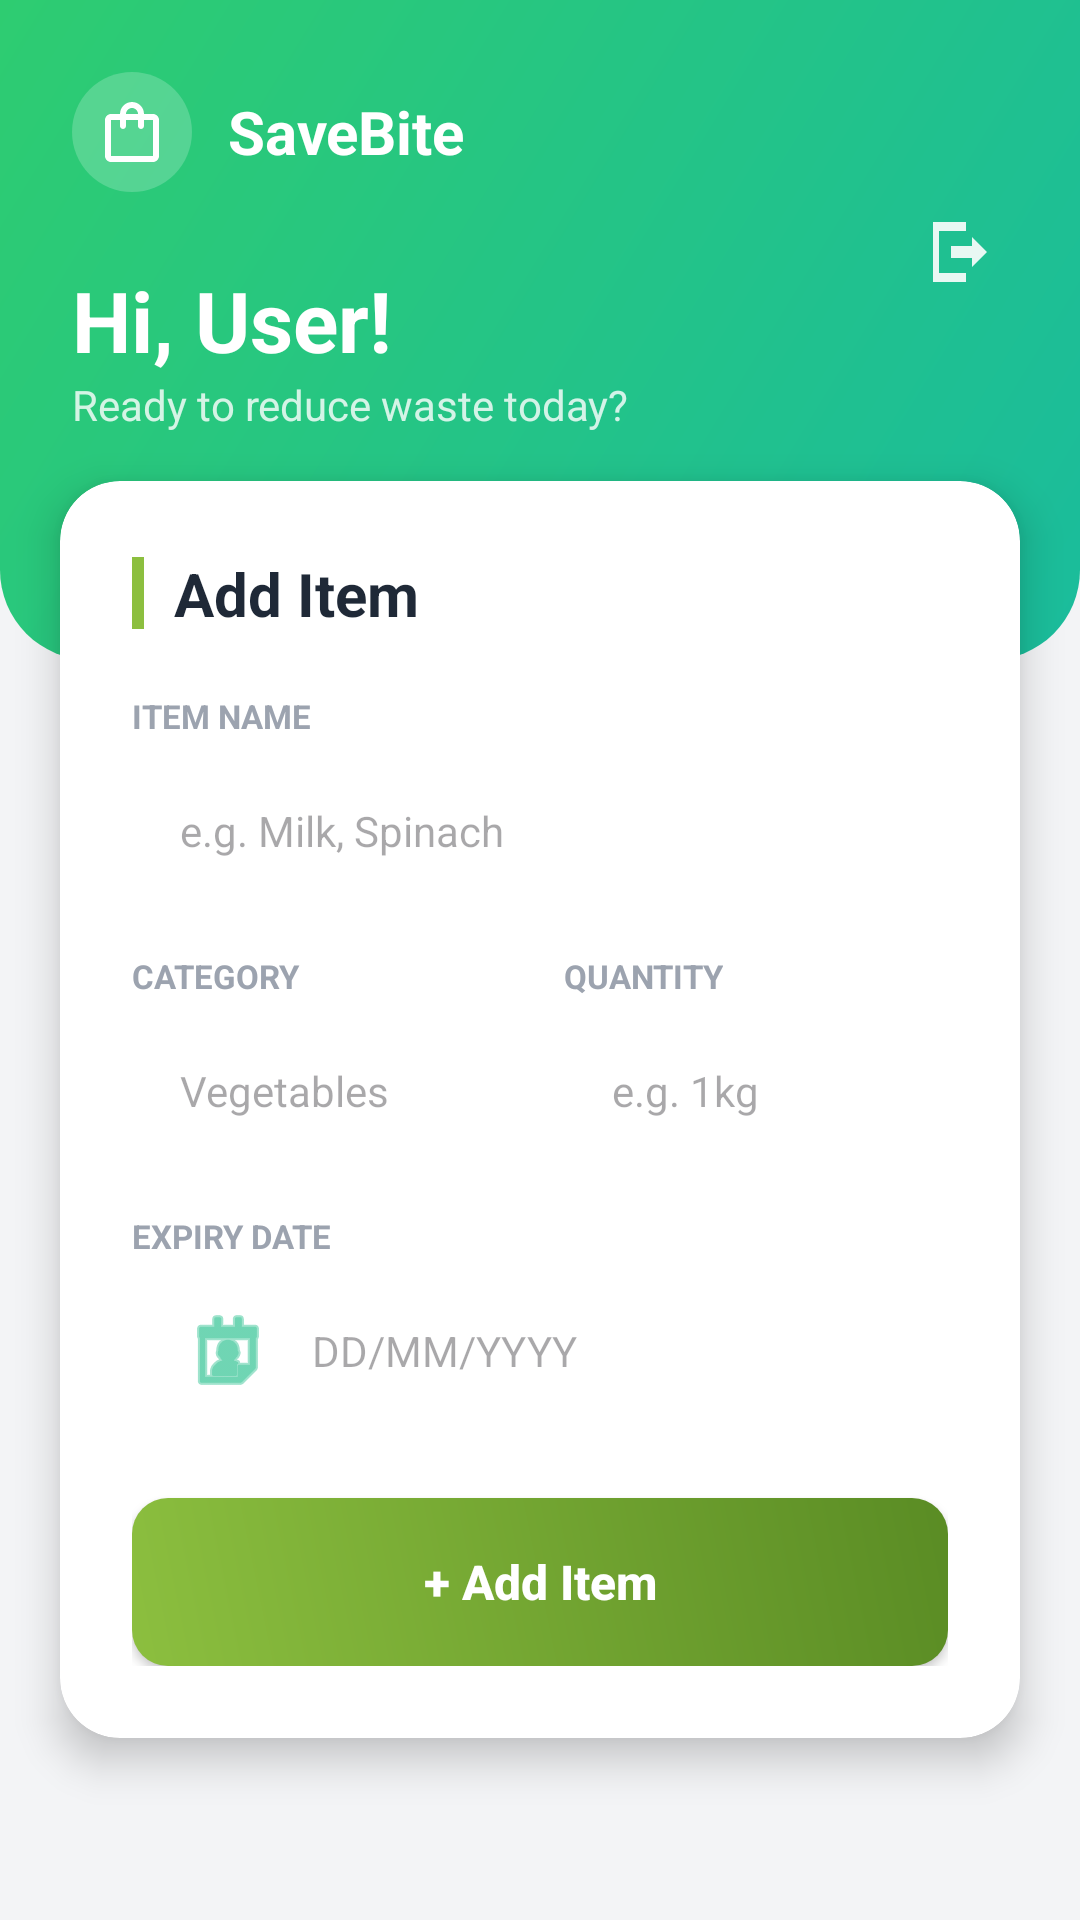

Named icons in this screenshot (1080px x 1920px) and their centers, (x=x, y=y):
home bag: (x=132, y=132)
